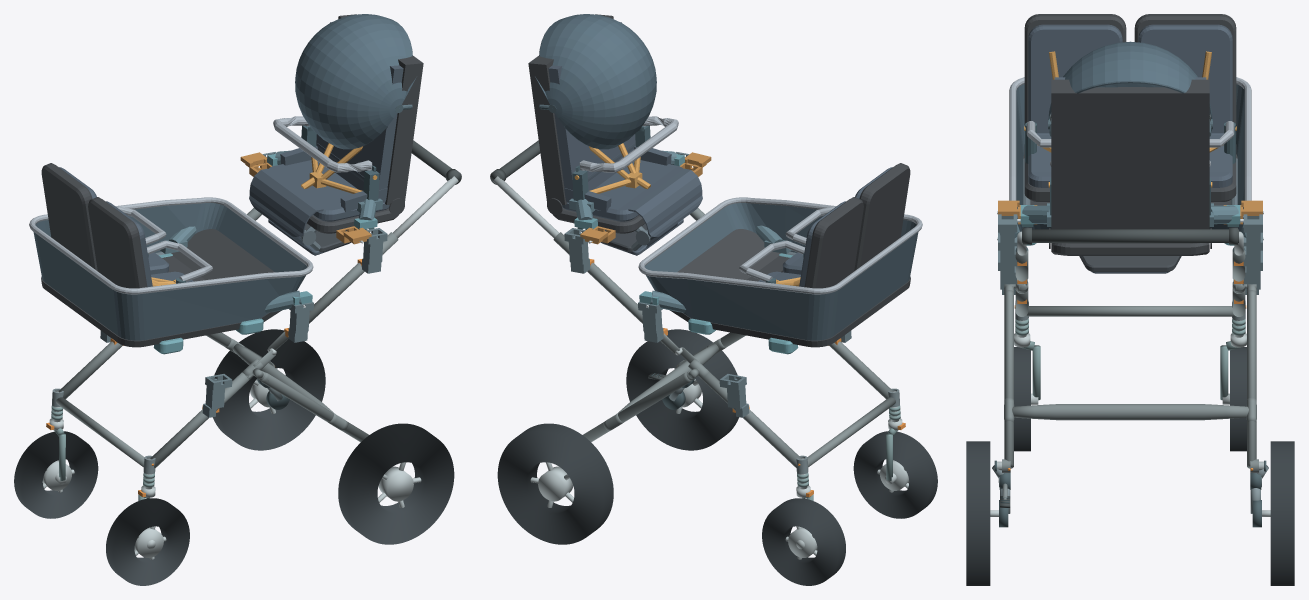
File: D30_w650_state1_wheel_L.glb
3 views of the same model, side by side, from view 1: azimuth 30°, elevation 25°; view 2: azimuth 150°, elevation 25°; view 3: azimuth 270°, elevation 25° (orthographic). The views are drawn at different scales.
Parts seen in each view (by area): view 1: D30_Lower, D30_Upper, RL_tire.008, RR_tire.008, FL_tire.008, FR_tire.008, V46_rear_leg_-1.009, main_lower_-1.009, D30_Lower_Mount_M, front_fixed_round_tube.008, main_upper_-1.009, RL_sealed_hub.008 (+9 smaller); view 2: D30_Lower, D30_Upper, RR_tire.008, RL_tire.008, FR_tire.008, FL_tire.008, V46_rear_leg_1.009, main_lower_1.009, D30_Lower_Mount_M, front_fixed_round_tube.008, main_upper_1.009, RR_sealed_hub.008 (+9 smaller); view 3: D30_Upper, D30_Lower, V46_rearbar.009, RL_tire.008, RR_tire.008, round_handle.008, front_fixed_round_tube.008, FL_tire.008, FR_tire.008, V46_rear_leg_1.009, V46_rear_leg_-1.009, D30_Upper_Mount_H (+4 smaller).
Boxes of the visible parts, x1,y1,x2,y2 form: D30_Lower: (29, 163, 313, 354); D30_Upper: (249, 14, 423, 255); RL_tire.008: (338, 423, 454, 544); RR_tire.008: (213, 329, 325, 450); FL_tire.008: (106, 498, 189, 585); FR_tire.008: (14, 431, 98, 518); V46_rear_leg_-1.009: (260, 372, 368, 442); main_lower_-1.009: (150, 372, 252, 468); D30_Lower_Mount_M: (160, 226, 312, 312); front_fixed_round_tube.008: (56, 397, 144, 467); main_upper_-1.009: (309, 232, 398, 323); RL_sealed_hub.008: (378, 466, 413, 501); D30_Lower: (638, 163, 922, 354); D30_Upper: (528, 14, 702, 255); RR_tire.008: (497, 423, 613, 544); RL_tire.008: (626, 329, 738, 450); FR_tire.008: (762, 498, 845, 585); FL_tire.008: (853, 431, 937, 518); V46_rear_leg_1.009: (583, 372, 691, 442); main_lower_1.009: (699, 372, 801, 468); D30_Lower_Mount_M: (639, 225, 791, 312); front_fixed_round_tube.008: (807, 397, 895, 467); main_upper_1.009: (553, 232, 642, 323); RR_sealed_hub.008: (538, 466, 573, 501); D30_Upper: (1048, 41, 1212, 273); D30_Lower: (1009, 14, 1251, 245); V46_rearbar.009: (1012, 404, 1248, 420); RL_tire.008: (966, 441, 990, 585); RR_tire.008: (1270, 441, 1294, 585); round_handle.008: (1022, 229, 1238, 242); front_fixed_round_tube.008: (1027, 306, 1233, 316); FL_tire.008: (1014, 347, 1030, 451); FR_tire.008: (1230, 347, 1246, 451); V46_rear_leg_1.009: (1247, 290, 1256, 468); V46_rear_leg_-1.009: (1004, 290, 1013, 468); D30_Upper_Mount_H: (1017, 203, 1243, 226).
Bounding box in the file's own units: 1.2 × 1.51 × 0.8171.
